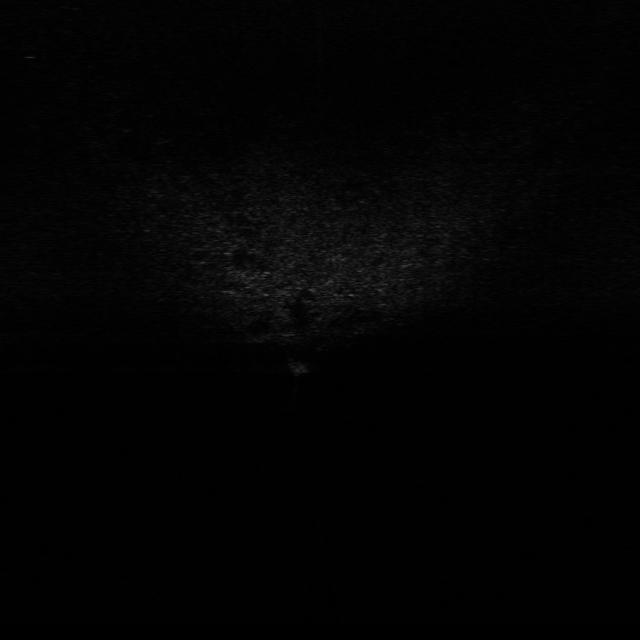cube: (284, 352, 324, 378)
